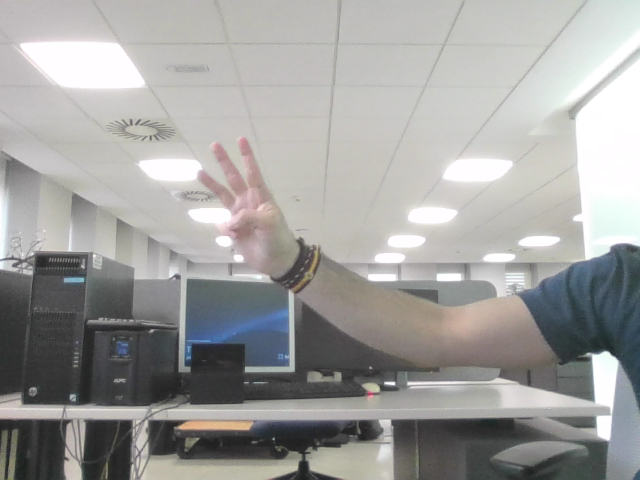3Dedos: (204, 146, 273, 234)
